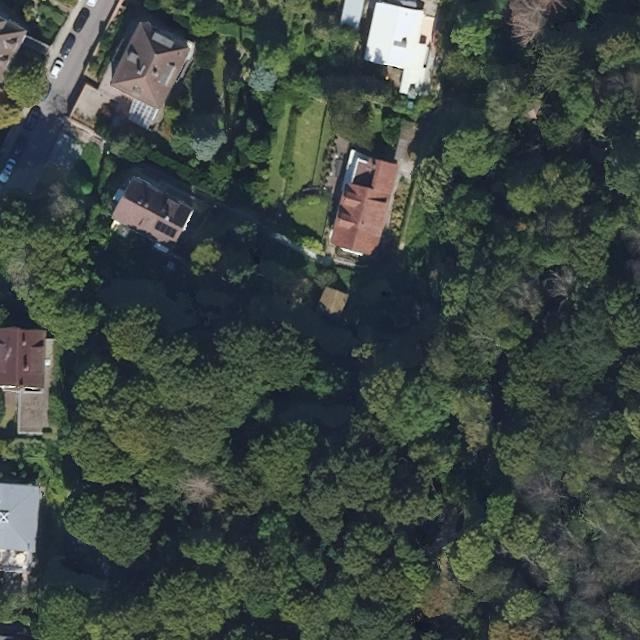PV: (153, 219, 179, 239)
